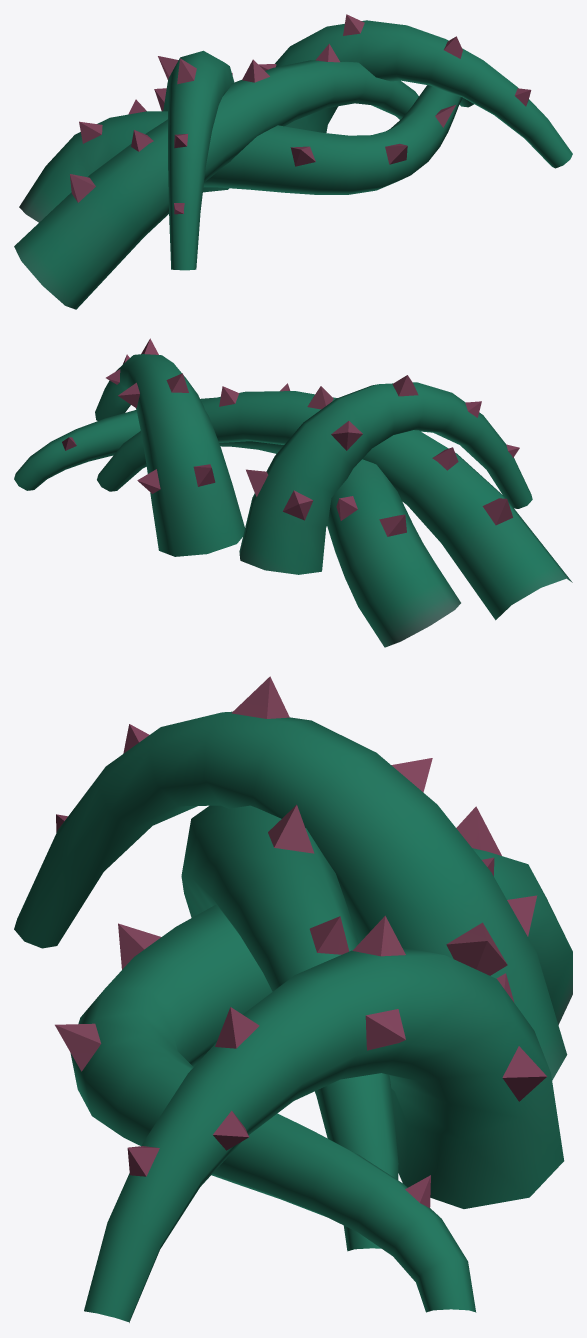
The model's file is bramble.glb.
3 renders of one model, top to bottom at view 1: azimuth 30°, elevation 25°; view 2: azimuth 150°, elevation 25°; view 3: azimuth 270°, elevation 25°, orthographic. The views are drawn at different scales.
Visible parts, largest first — view 1: bramble; view 2: bramble; view 3: bramble.
Part boxes in pixels (x1=…): bramble: x1=14, y1=14, x2=572, y2=309; bramble: x1=14, y1=338, x2=572, y2=647; bramble: x1=14, y1=676, x2=572, y2=1322.
Bounding box in the file's own units: 3.23 × 1.33 × 1.54.
Materials: 1 (1 with a texture image).
